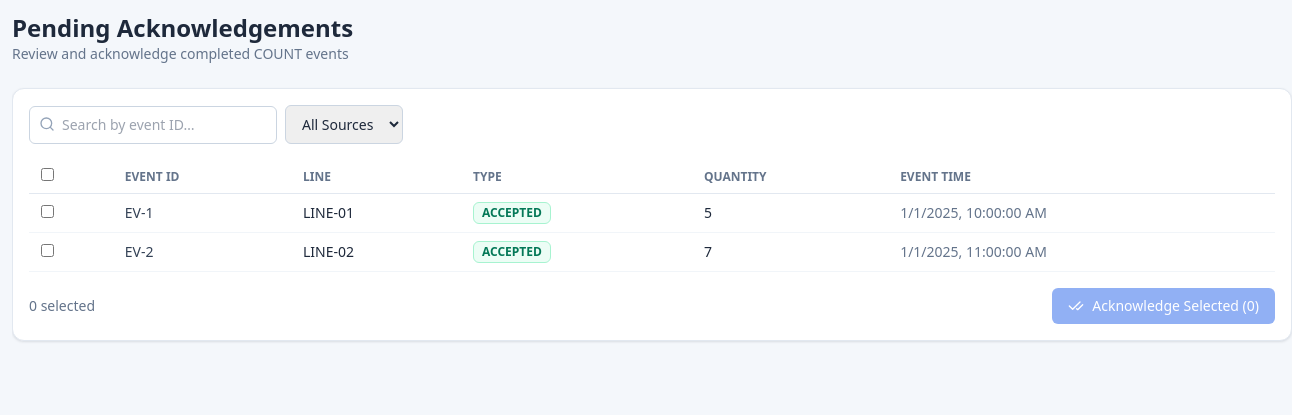
Test: PendingAcknowledgements › renders pending events and acknowledges selection
The image size is (1292, 415).
expect the text "EV-1" is shown: met, box [113, 194, 291, 232]
expect the text "EV-2" is shown: met, box [113, 232, 291, 272]
Step 1. Click the checkbox named "Select EV-1" → (48, 212), box [41, 205, 54, 218]
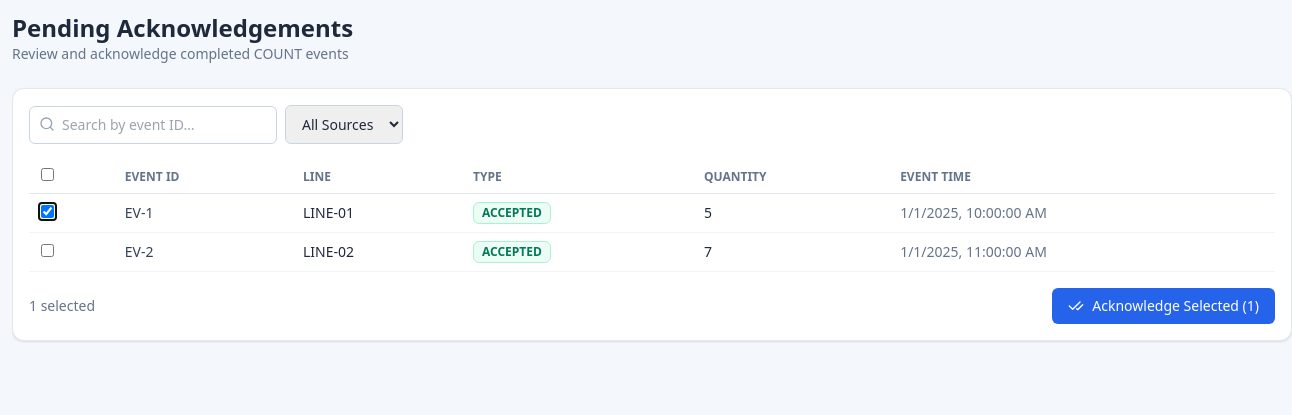
Step 2. Click the button "Acknowledge Selected (1)" → (1164, 306), box [1052, 288, 1275, 324]
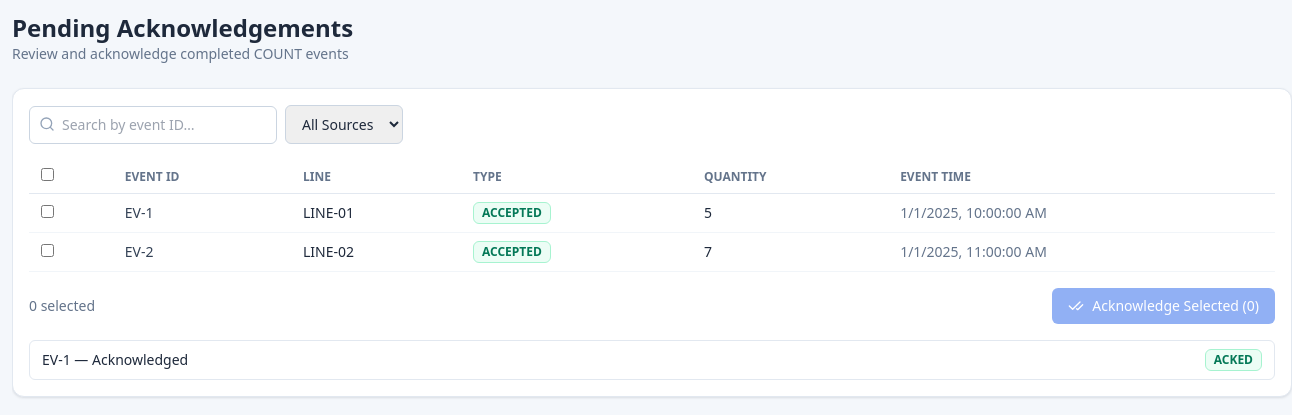
expect the text "ACKED" is shown: met, box [1205, 349, 1262, 371]
